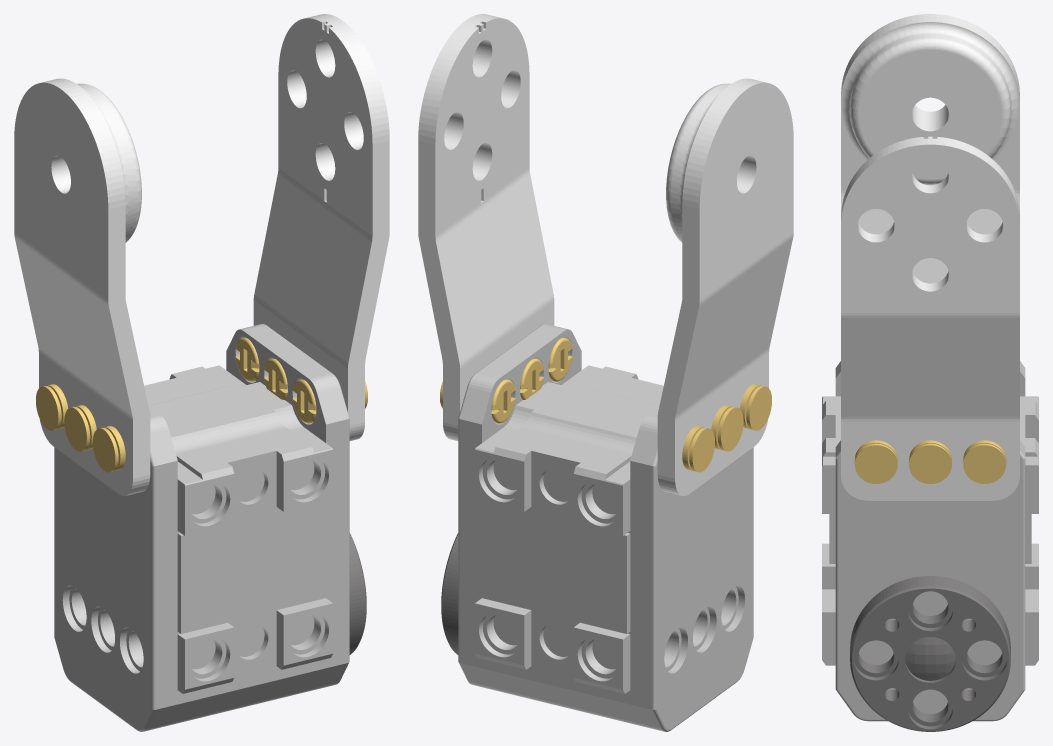
Rendered from section_1.dae.
3 renders of one model, left to right at view 1: azimuth 30°, elevation 25°; view 2: azimuth 150°, elevation 25°; view 3: azimuth 270°, elevation 25°, orthographic. The views are drawn at different scales.
Visible parts, largest first — view 1: body_001, Untitled_021, Untitled_022, horn_001, insert_005, insert_001, insert_004; view 2: body_001, Untitled_021, Untitled_022, horn_001, insert_005, insert_004, insert_001; view 3: Untitled_022, body_001, Untitled_021, horn_001, insert_002, insert_006, insert_003.
Part boxes in pixels (box(x1,y1,x2,y2)): body_001: box(54, 324, 349, 731); Untitled_021: box(14, 78, 150, 495); Untitled_022: box(253, 14, 389, 440); horn_001: box(349, 533, 366, 654); insert_005: box(64, 406, 90, 451); insert_001: box(93, 427, 118, 472); insert_004: box(36, 386, 61, 430); body_001: box(458, 324, 753, 731); Untitled_021: box(657, 78, 793, 495); Untitled_022: box(418, 14, 554, 440); horn_001: box(441, 533, 458, 654); insert_005: box(717, 406, 743, 451); insert_004: box(689, 427, 714, 472); insert_001: box(746, 386, 771, 430); Untitled_022: box(841, 136, 1019, 500); body_001: box(822, 361, 1038, 721); Untitled_021: box(841, 14, 1019, 283); horn_001: box(850, 576, 1010, 731); insert_002: box(963, 443, 1006, 483); insert_006: box(854, 443, 897, 483); insert_003: box(909, 443, 951, 483).
Bounding box in the file's own units: 0.0342 × 0.024 × 0.0729.
